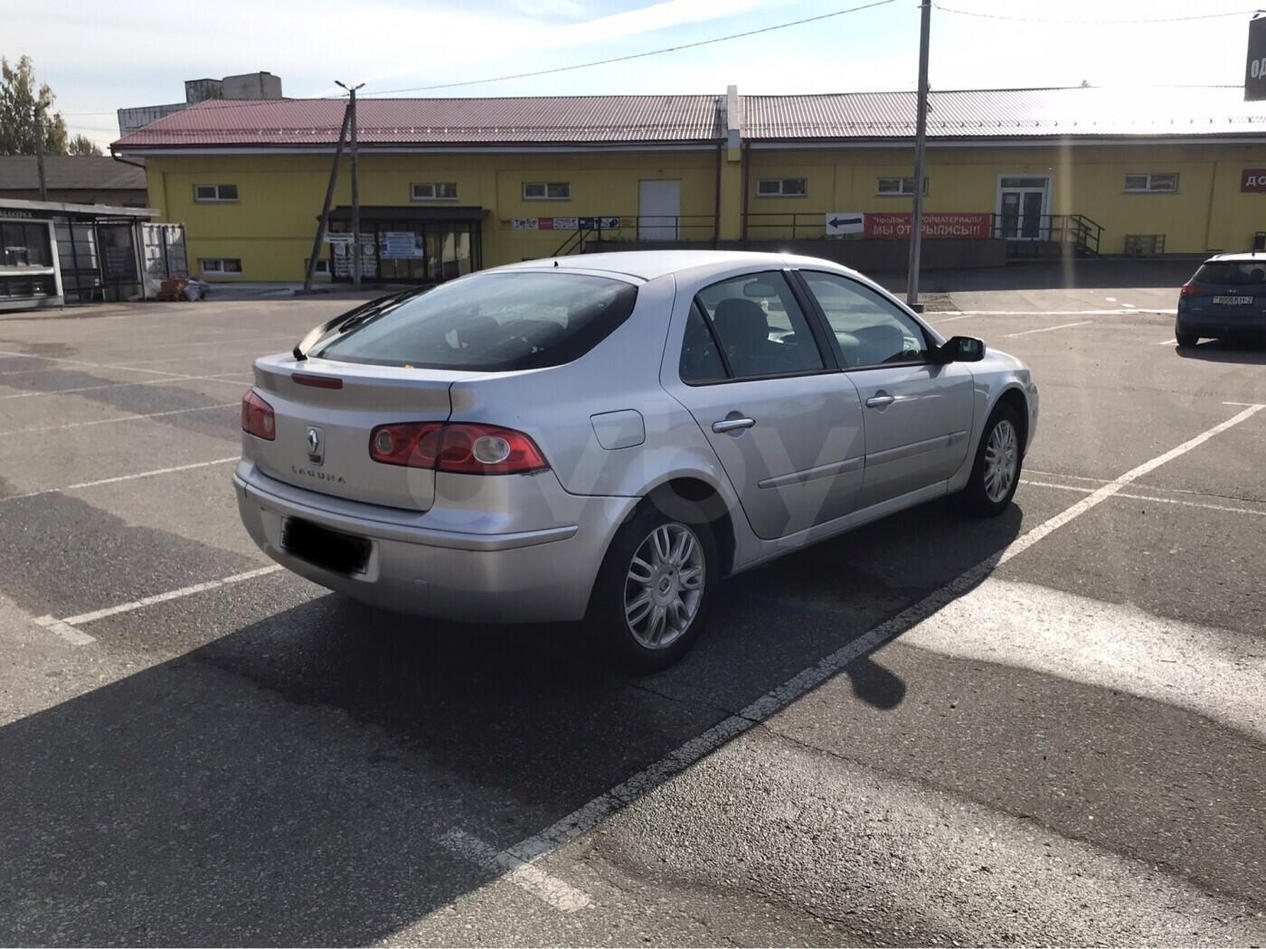Laguna_2005-2007: (238, 245, 1046, 664)
